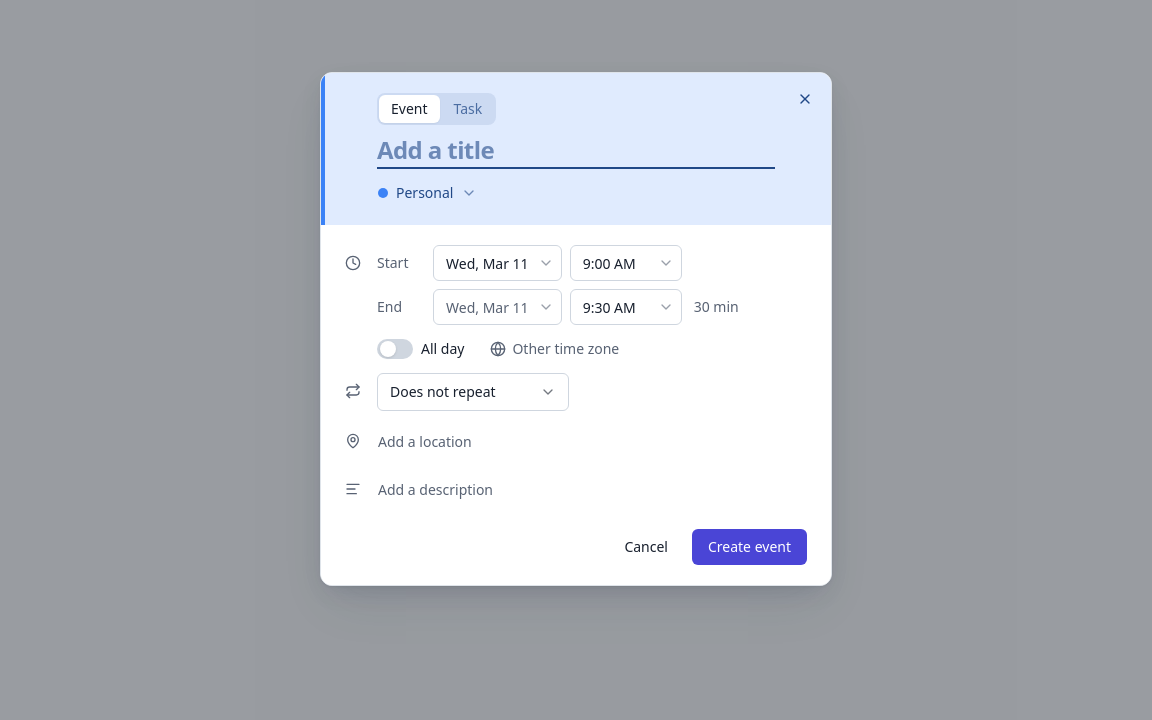
EditorDialog › makes a new event a task that keeps its title, notes and day
Type "Call" into the field with placeholder "Add a title". click: (576, 152)
box: top-left (377, 135), bottom-right (775, 169)
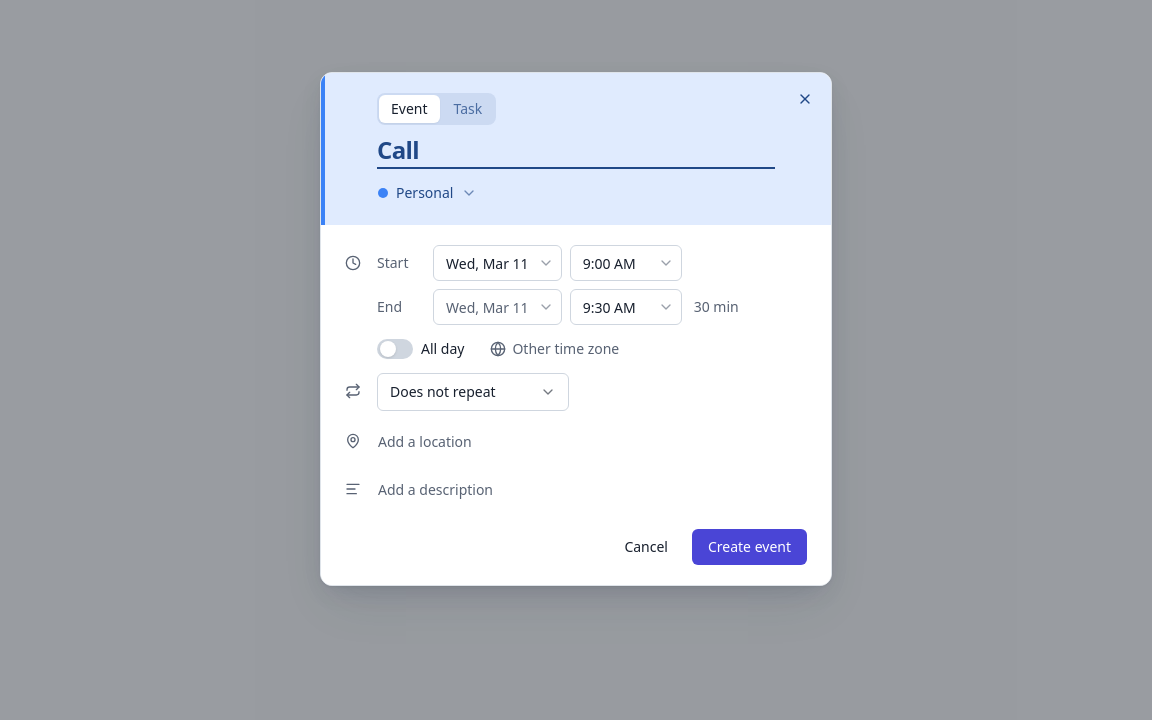
Type "Agenda" into the text box with placeholder "Add a description". click: (588, 490)
box: top-left (369, 471), bottom-right (807, 509)
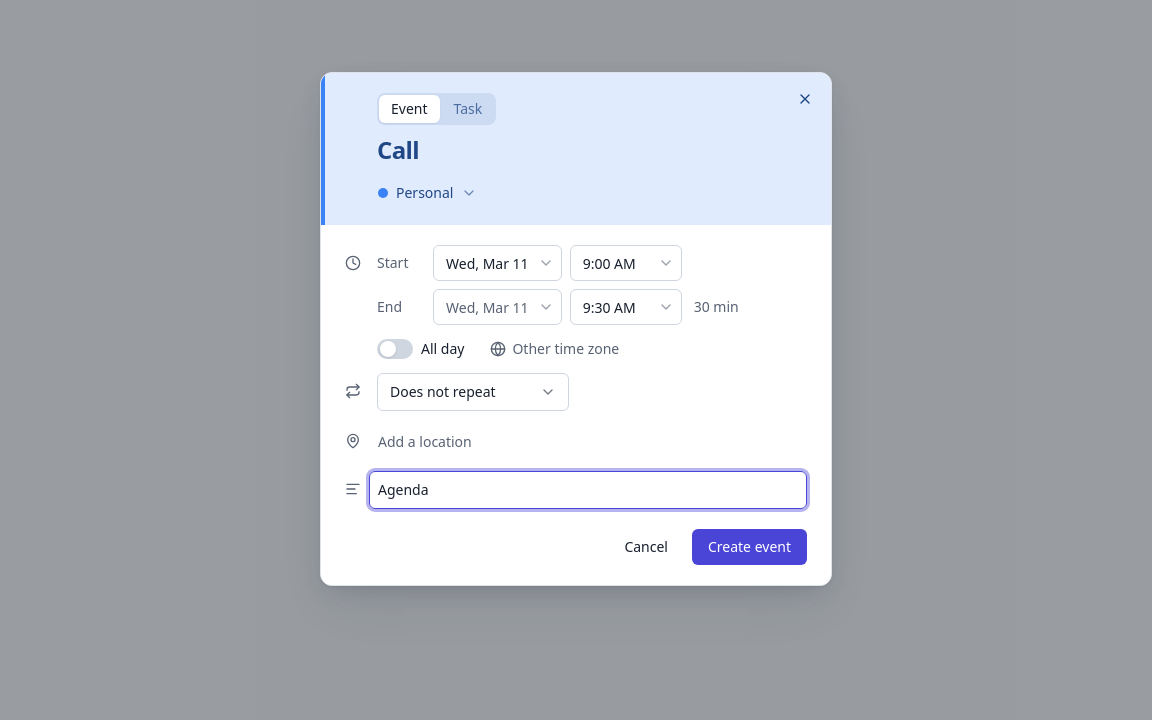
Click the radio button "Task". click: (468, 109)
box: top-left (442, 95), bottom-right (494, 123)
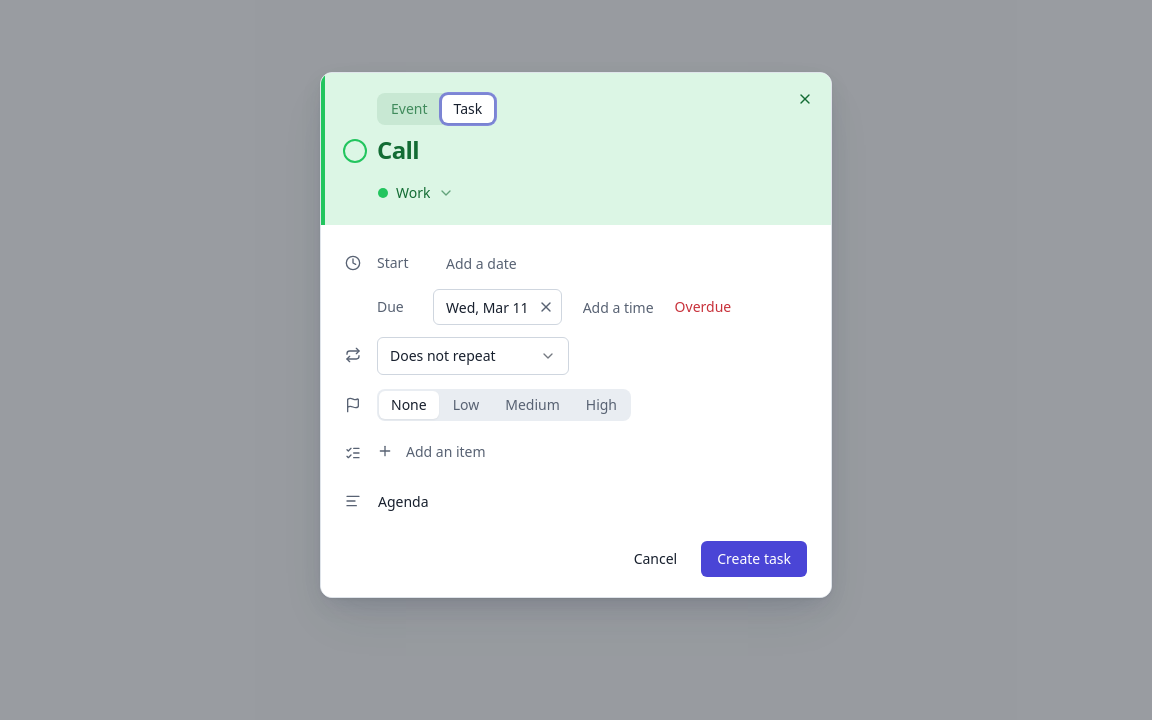
Expected: the field with placeholder "Add a title" holds "Call", top-left (377, 135), bottom-right (775, 169)
Expected: the text box with placeholder "Add notes" holds "Agenda", top-left (369, 483), bottom-right (807, 521)
Expected: the dropdown labelled "Due" holds "^Wed, Mar 11", top-left (433, 289), bottom-right (562, 325)
